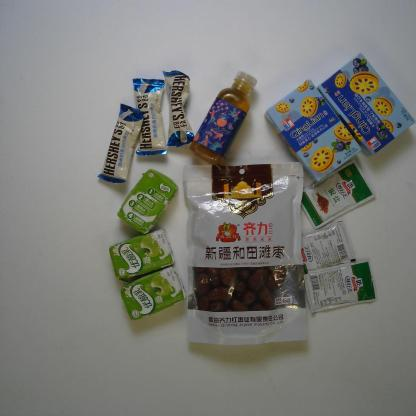Chocolate: (97, 103, 144, 184), (132, 78, 168, 156), (162, 69, 195, 149)
Dessert: (317, 52, 416, 157), (264, 79, 362, 183)
Dried Food: (182, 162, 308, 346)
Drink: (189, 70, 258, 166)
Milk: (116, 168, 179, 236), (120, 264, 188, 322), (108, 227, 176, 283)
Seasoner: (301, 159, 376, 230), (304, 258, 379, 315), (301, 220, 357, 274)
